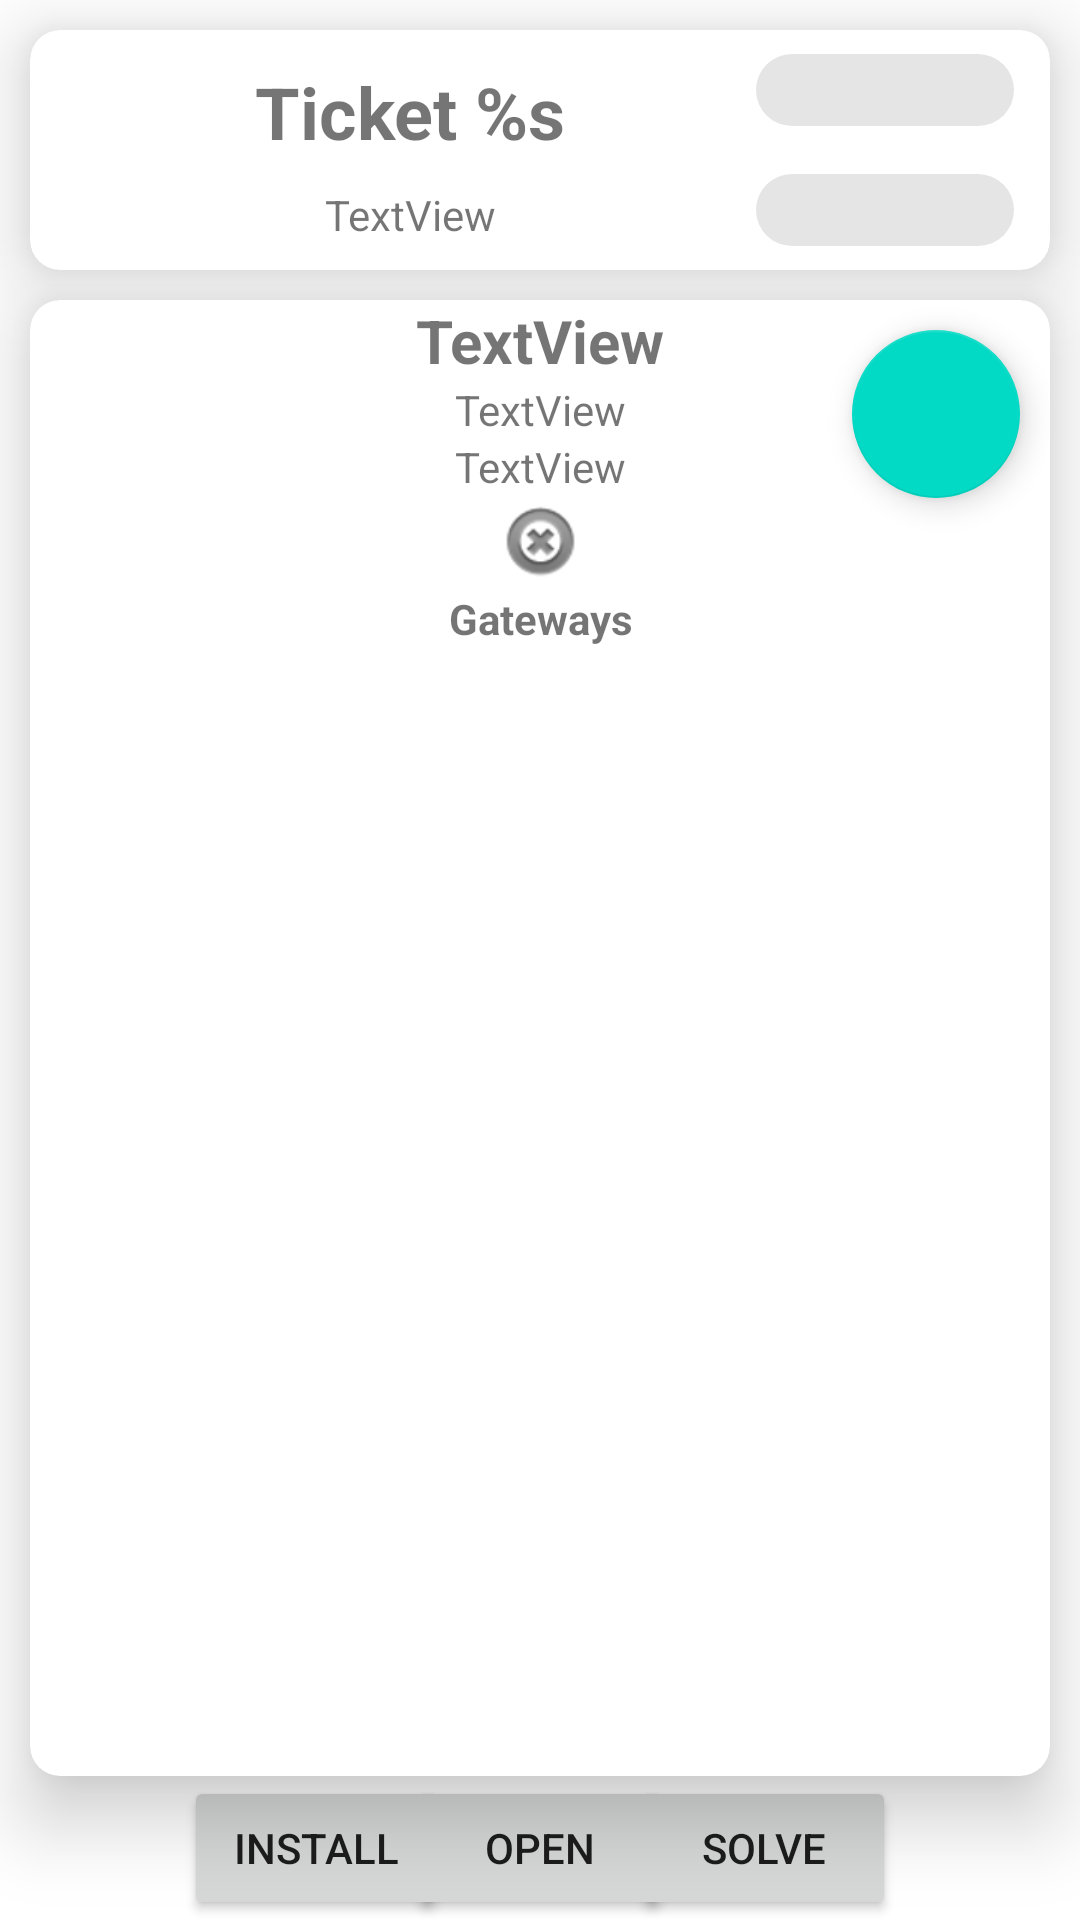

Icon bounding boxes for this 1080×1920 phone screenshot, format (x1, y1, x2, y2):
notification clear all: (506, 507, 575, 575)
